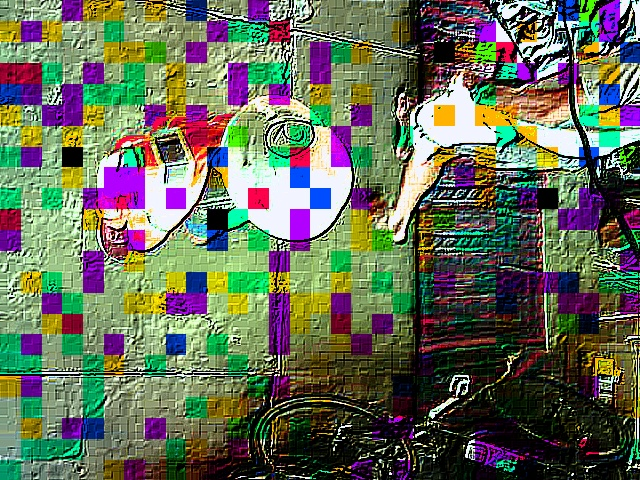two: (267, 119, 315, 158)
